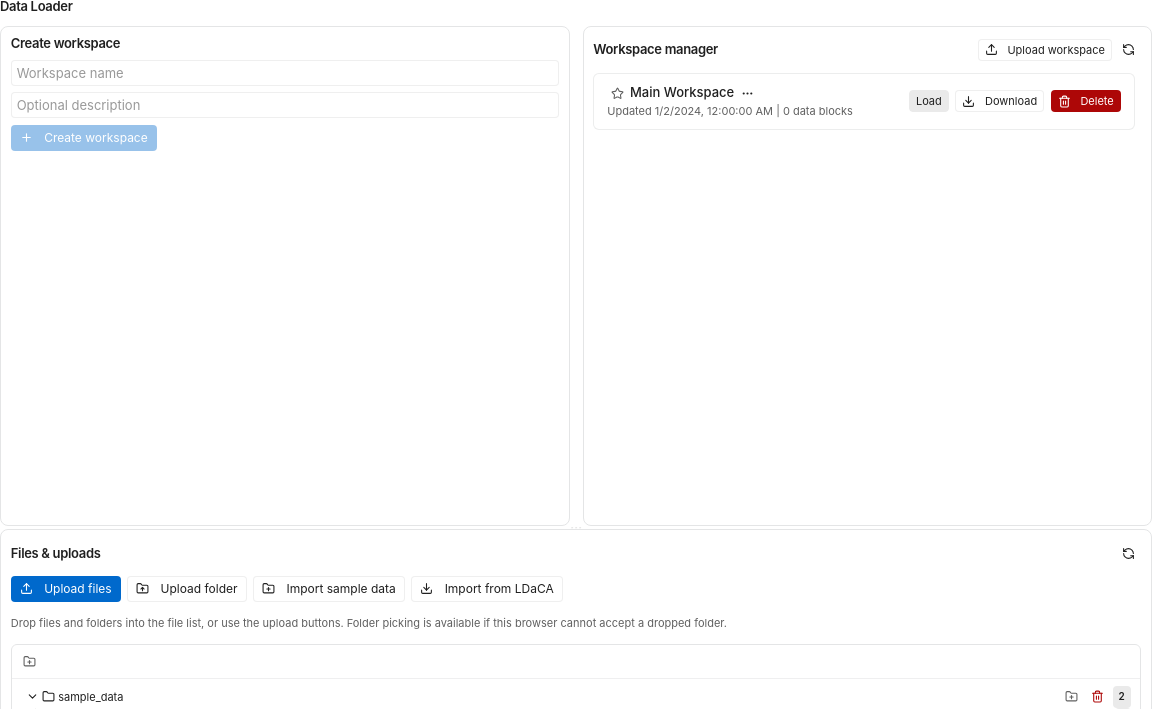
it: DataLoaderFeature citation UI › clears a transient Load failure after deleting its Workspace
Click the button "Load".
click(929, 101)  # box [909, 90, 949, 112]
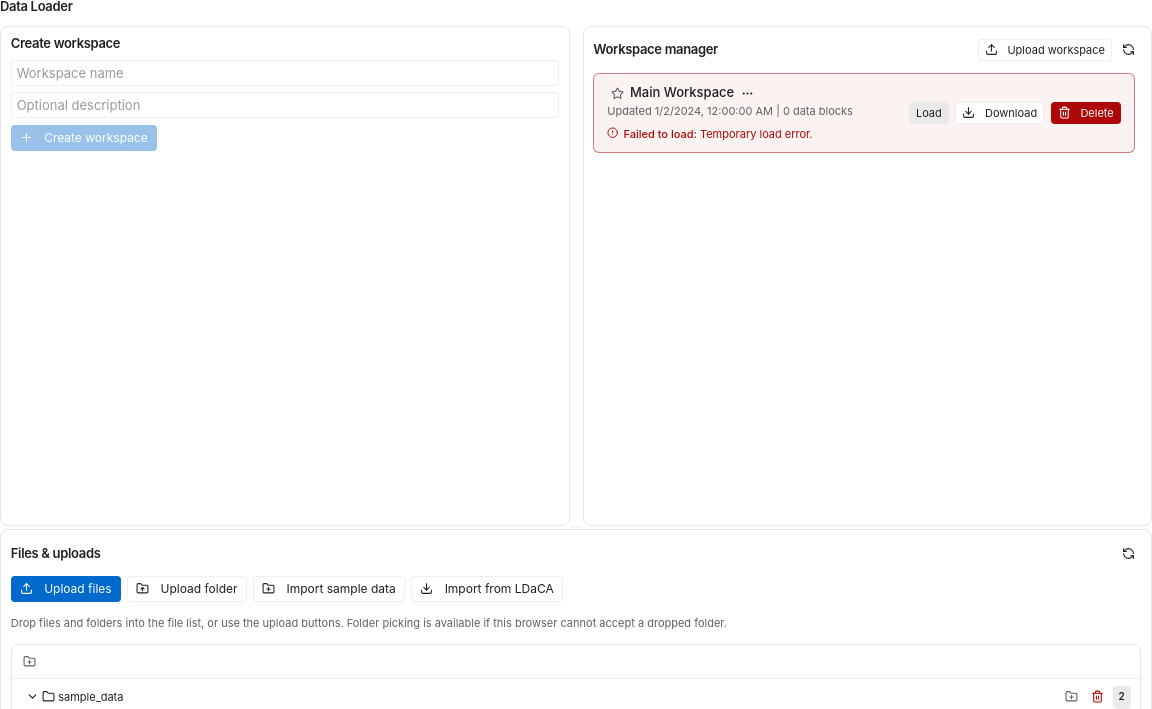
Expected: the message "Failed to load: Temporary load error." is shown, [607, 127, 813, 141]
Click the button "Delete".
click(1086, 113)  # box [1051, 102, 1121, 124]
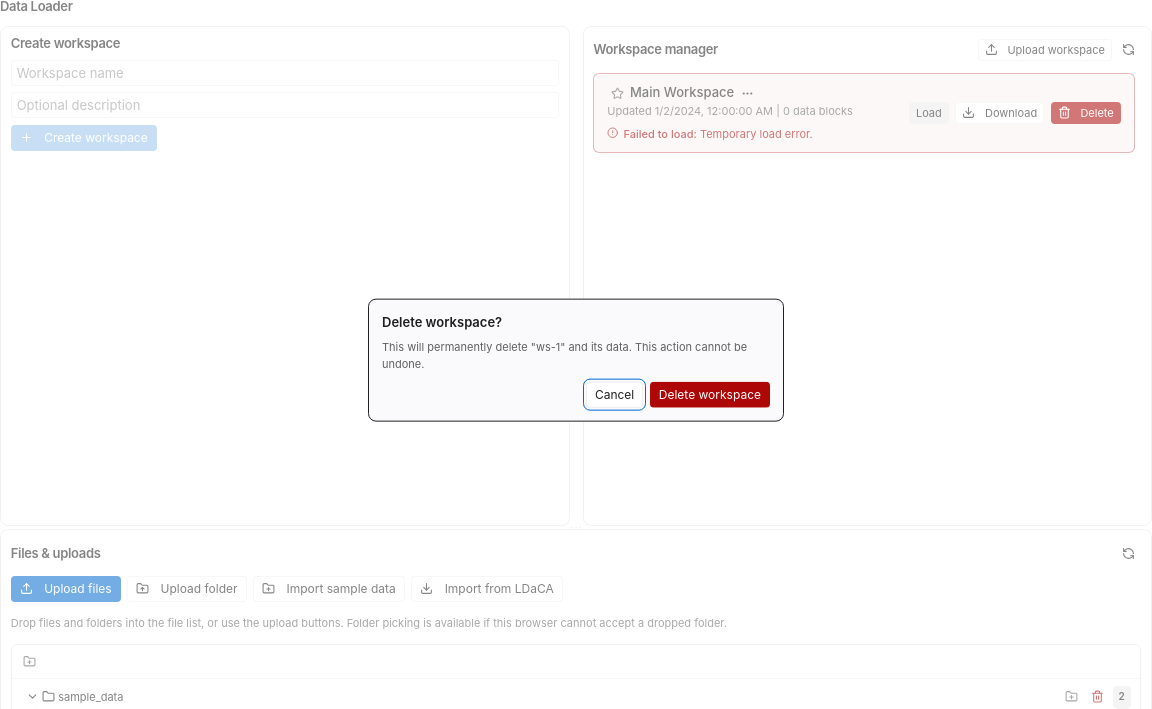
Click the button "Delete workspace".
click(710, 394)  # box [650, 381, 770, 407]
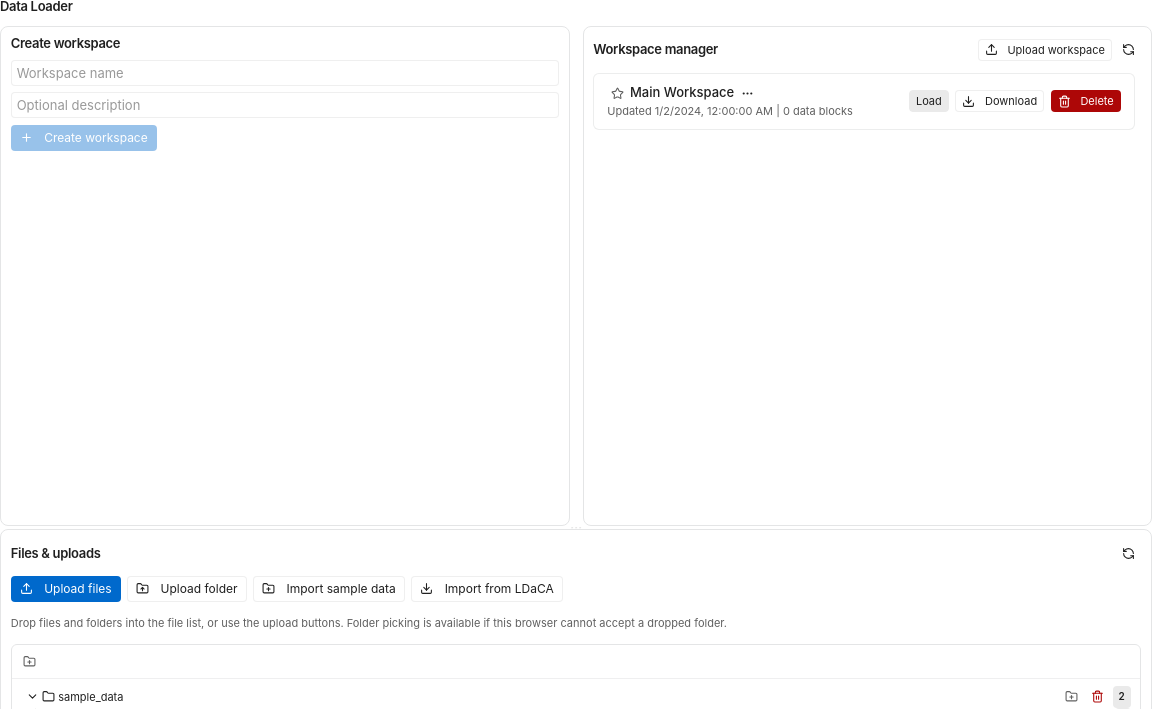
Expected: the message "Failed to load: Temporary load error." is gone
